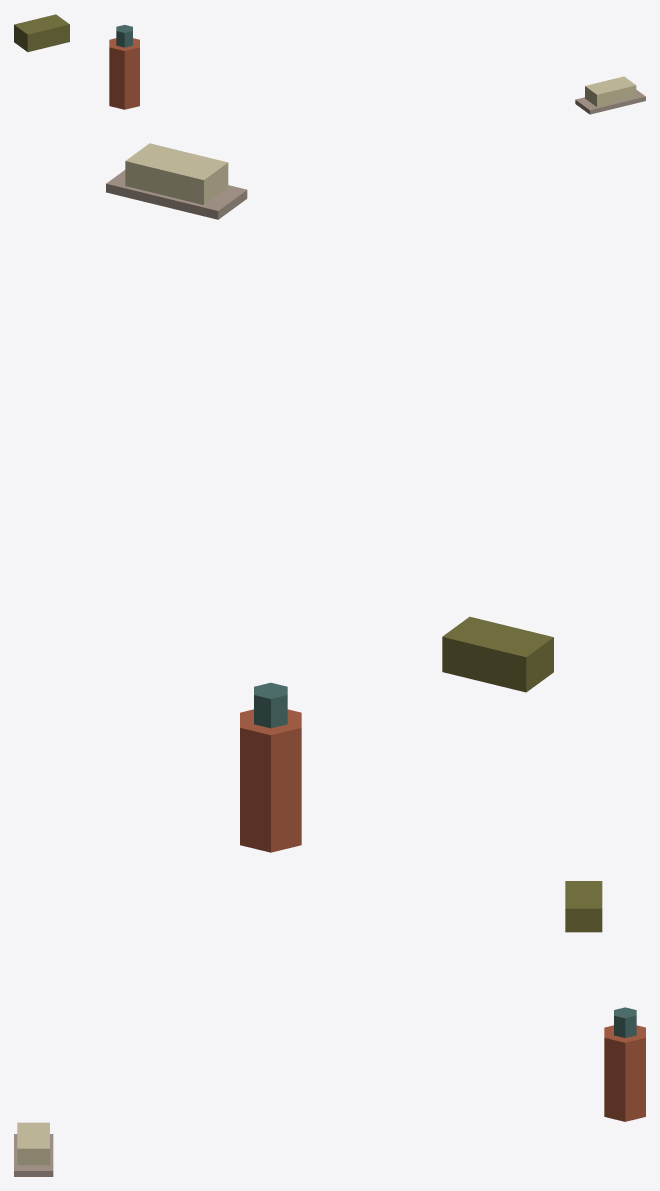
The model's file is props.glb.
The picture shows the model from 3 angles, top to bottom: view 1: azimuth 30°, elevation 25°; view 2: azimuth 150°, elevation 25°; view 3: azimuth 270°, elevation 25°; orthographic projection. The views are drawn at different scales.
Visible parts, largest first — view 1: Bottle, Sponge, Soap, Dish, Cap; view 2: Bottle, Sponge, Soap, Dish, Cap; view 3: Bottle, Sponge, Soap, Dish, Cap.
Part boxes in pixels (x1,y1,x2,y2): Bottle: (109, 38, 139, 109); Sponge: (14, 14, 69, 51); Soap: (585, 76, 636, 107); Dish: (575, 90, 645, 114); Cap: (116, 25, 132, 47); Bottle: (240, 709, 301, 852); Sponge: (442, 616, 553, 692); Soap: (125, 143, 228, 204); Dish: (106, 170, 247, 219); Cap: (254, 682, 287, 728); Bottle: (604, 1025, 645, 1121); Sponge: (565, 881, 602, 932); Soap: (17, 1122, 49, 1165); Dish: (14, 1134, 53, 1176); Cap: (614, 1007, 636, 1037).
Size of the model in its own units: 5.9 by 1.54 by 5.79.
